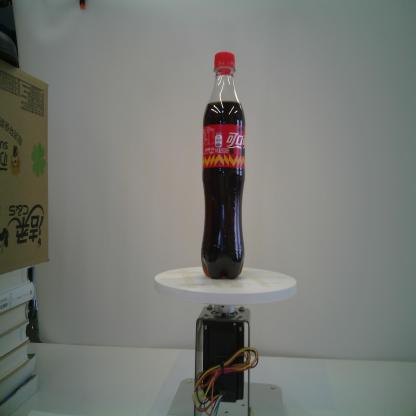Drink: (199, 49, 248, 282)
